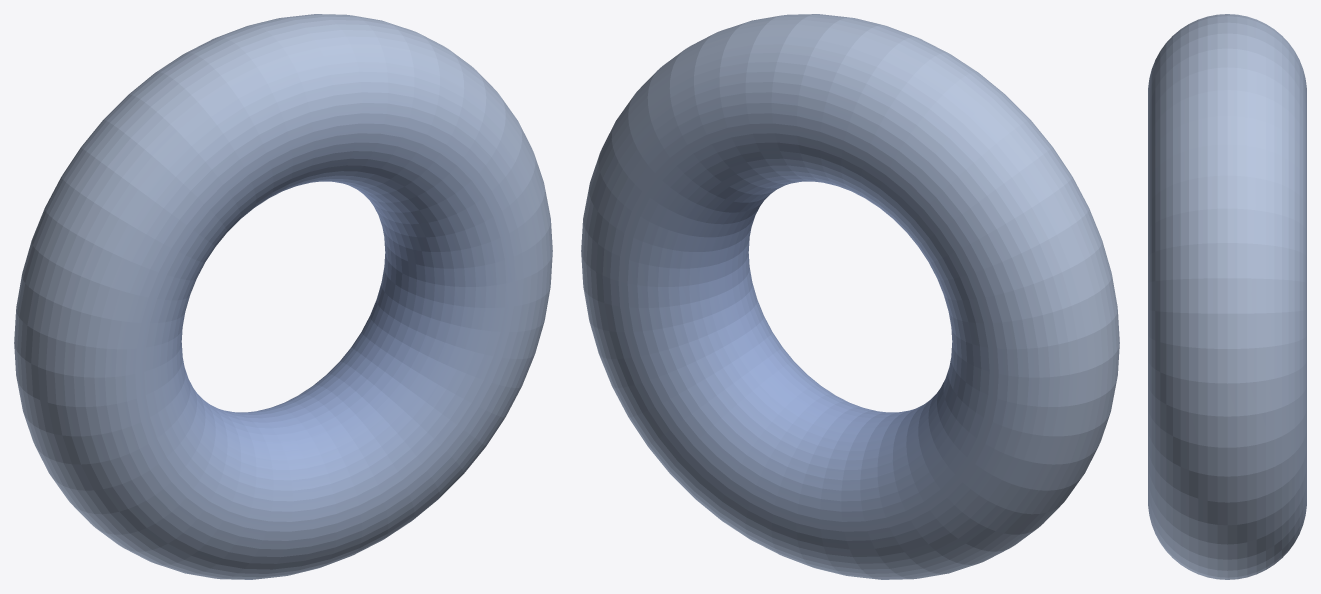
The picture shows the model from 3 angles, left to right: view 1: azimuth 30°, elevation 25°; view 2: azimuth 150°, elevation 25°; view 3: azimuth 270°, elevation 25°; orthographic projection. The views are drawn at different scales.
Parts seen in each view (by area): view 1: world; view 2: world; view 3: world.
Boxes of the visible parts, x1=… form: world: x1=14, y1=14, x2=552, y2=579; world: x1=581, y1=14, x2=1119, y2=579; world: x1=1148, y1=14, x2=1306, y2=579.
Bounding box in the file's own units: 21.33 × 21.29 × 5.99.
